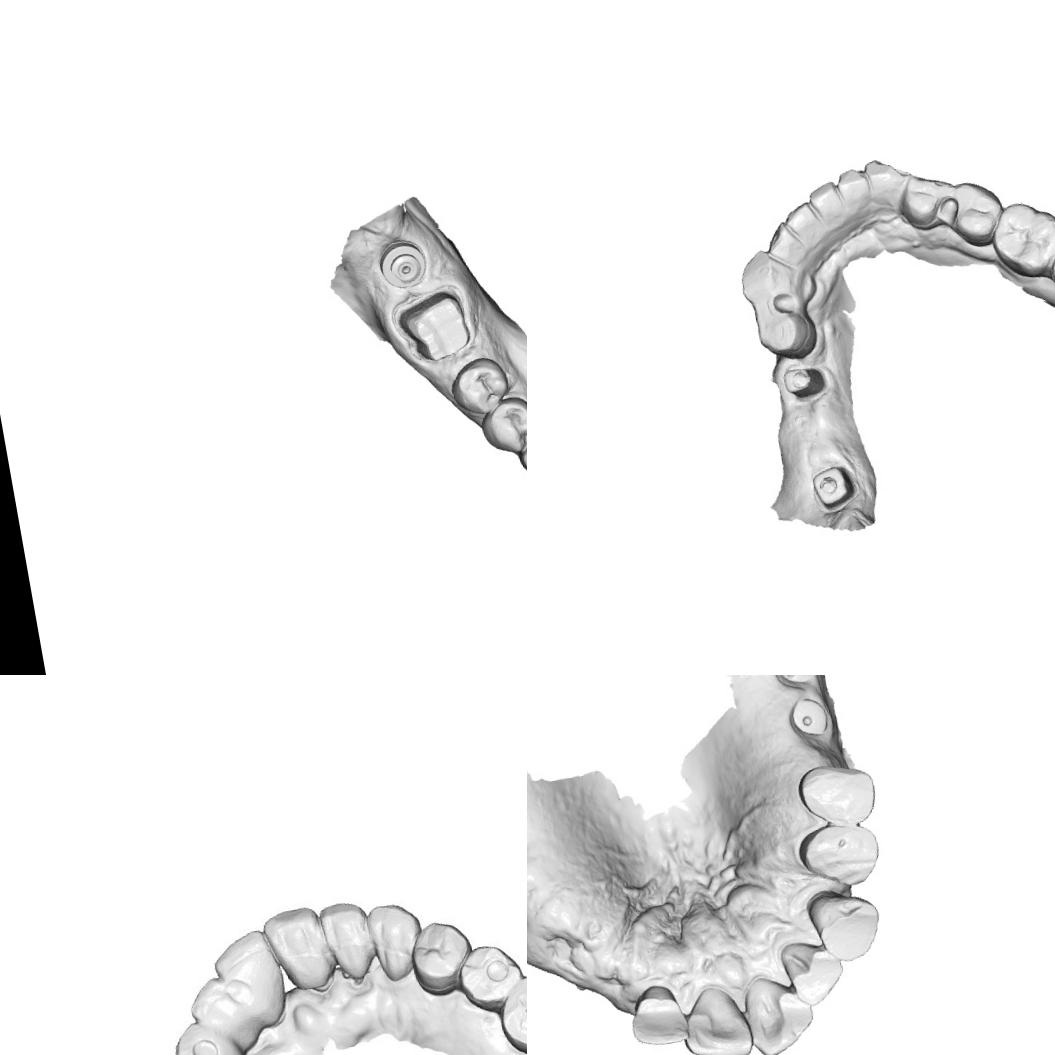abutment: (802, 458, 864, 518), (778, 356, 830, 404)
canine: (804, 882, 886, 968), (182, 970, 263, 1055), (367, 894, 426, 984), (731, 244, 800, 312), (861, 152, 913, 212), (511, 417, 527, 491)
crown: (393, 286, 476, 368)
implant: (373, 233, 430, 292), (784, 691, 830, 742), (769, 675, 816, 691)
incisor: (209, 926, 294, 1038), (265, 902, 340, 999), (315, 896, 382, 994), (673, 978, 758, 1055), (741, 973, 820, 1055), (774, 932, 852, 1012), (622, 979, 690, 1051), (832, 165, 872, 206), (805, 179, 841, 220), (782, 200, 816, 237), (761, 220, 794, 257)
molar: (985, 195, 1055, 284), (493, 967, 527, 1055)
premolar: (792, 815, 888, 895), (793, 754, 880, 831), (449, 938, 527, 1016), (402, 920, 474, 996), (944, 174, 1008, 252), (445, 352, 514, 421), (752, 304, 822, 366), (894, 168, 956, 234), (476, 389, 527, 459), (163, 1018, 250, 1055)
